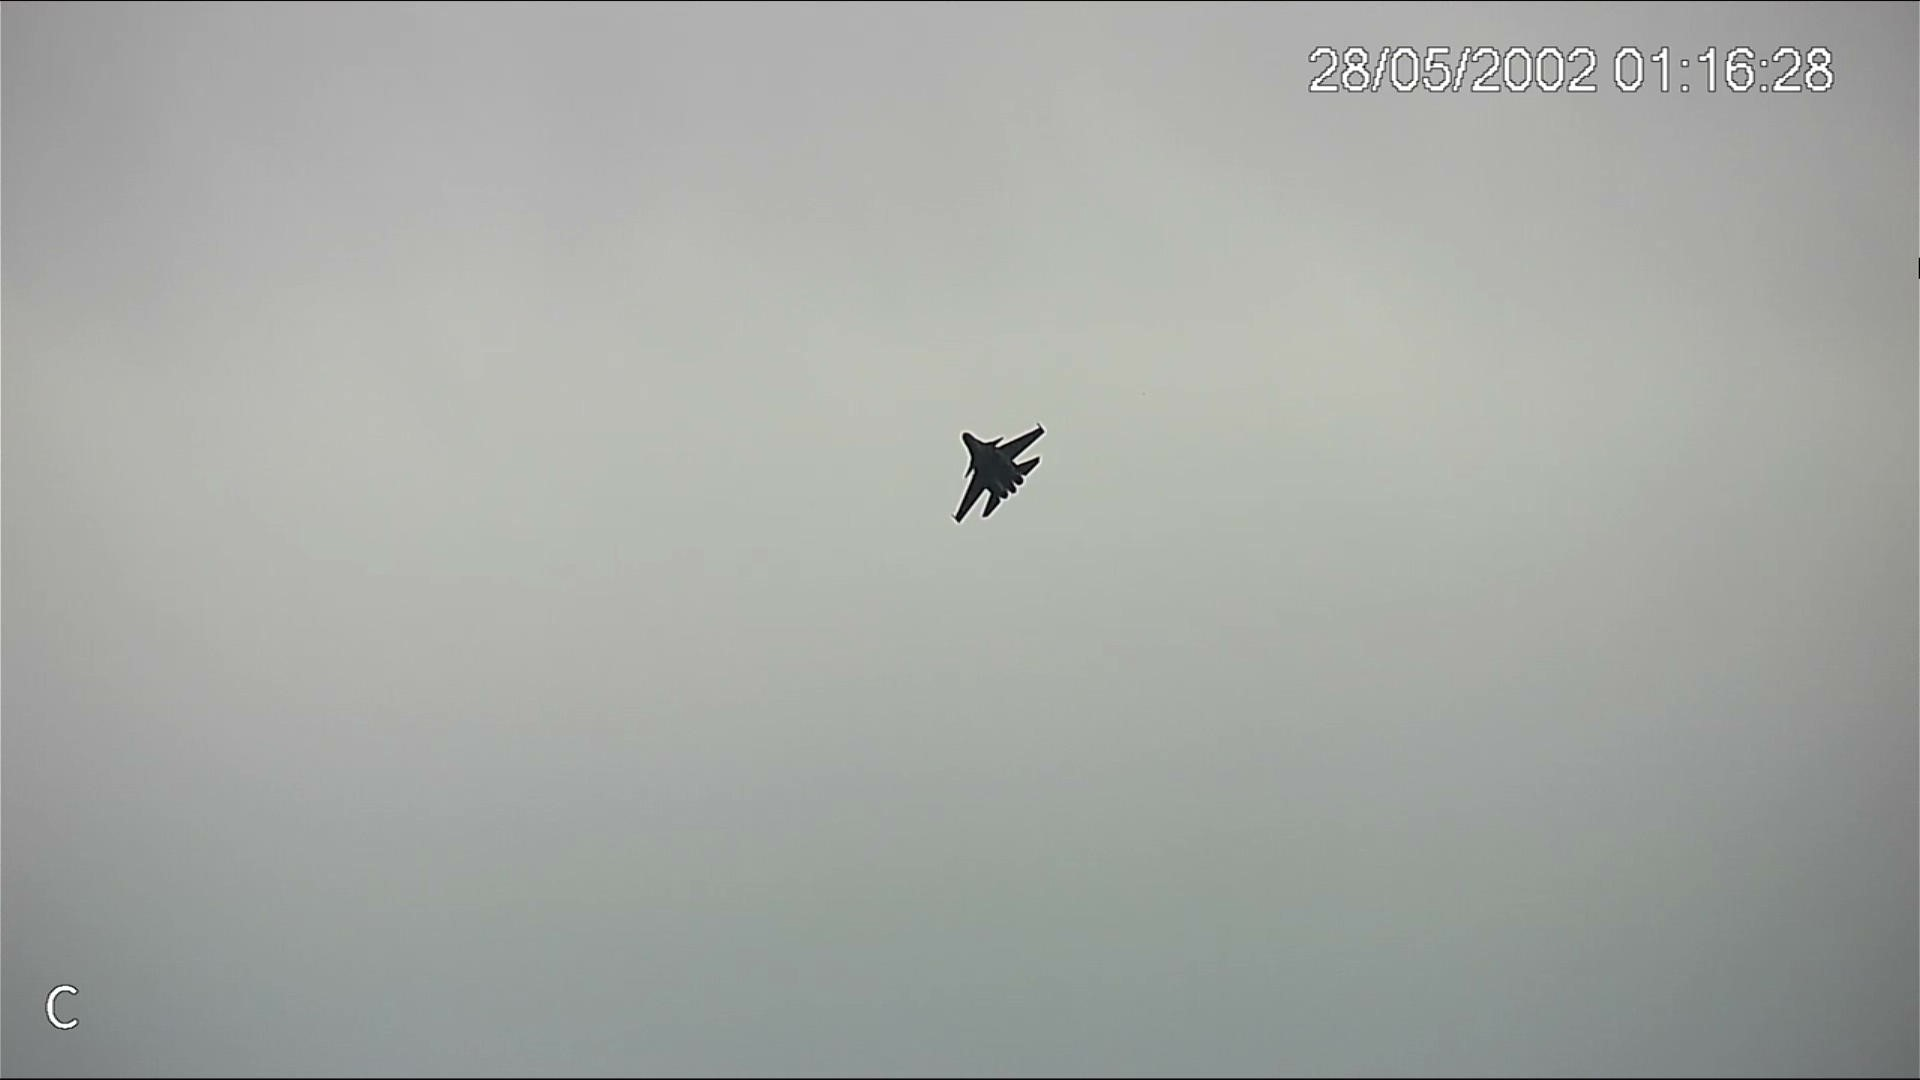SU_30: (949, 419, 1042, 529)
